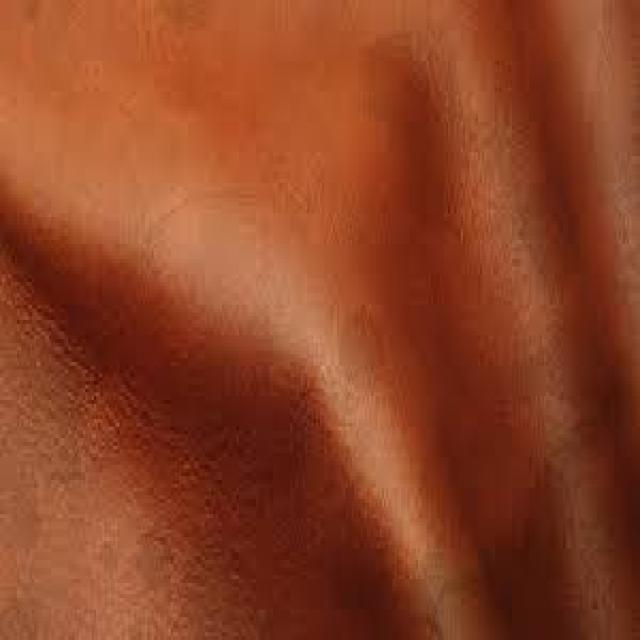Bacterial Injury: (479, 406, 631, 604)
Crease: (78, 185, 303, 441)
